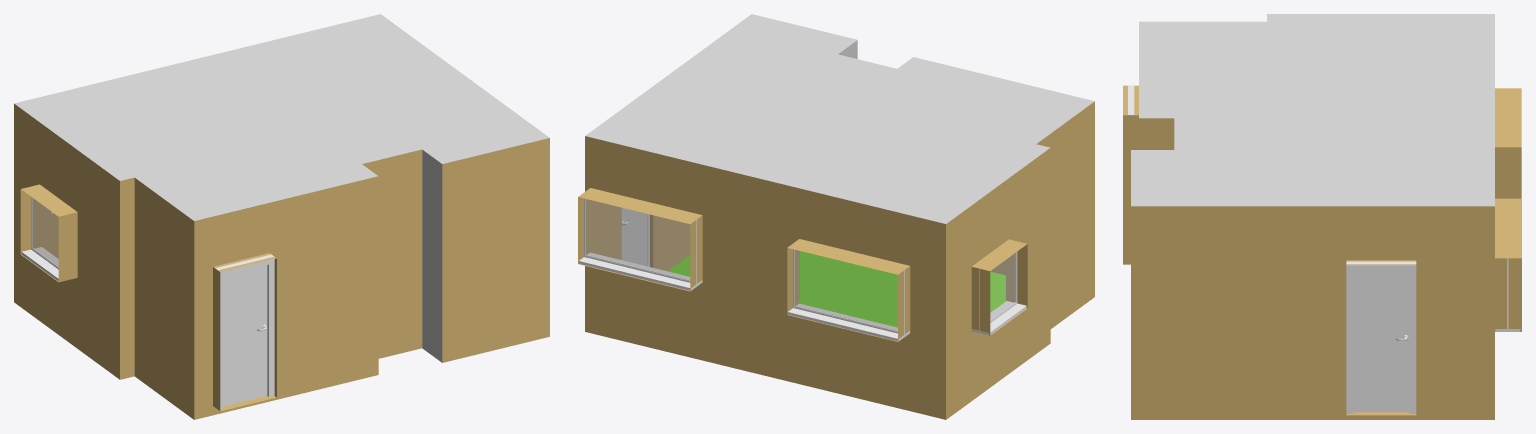
The model's file is Kitchen.glb.
The picture shows the model from 3 angles, left to right: view 1: azimuth 30°, elevation 25°; view 2: azimuth 150°, elevation 25°; view 3: azimuth 270°, elevation 25°; orthographic projection. The views are drawn at different scales.
Parts seen in each view (by area): view 1: Room_Kitchen, Kitchen_Door_South, Kitchen_Door_South_Frame, Kitchen_Window_West; view 2: Room_Kitchen, Kitchen_Window_NE, Kitchen_Window_NW, Kitchen_Window_West, Kitchen_Door_West; view 3: Room_Kitchen, Kitchen_Door_West, Kitchen_Door_West_Frame.
Boxes of the visible parts, x1=… form: Room_Kitchen: x1=14, y1=14, x2=549, y2=419; Kitchen_Door_South: x1=223, y1=265, x2=267, y2=406; Kitchen_Door_South_Frame: x1=215, y1=254, x2=274, y2=408; Kitchen_Window_West: x1=21, y1=197, x2=58, y2=281; Room_Kitchen: x1=578, y1=14, x2=1094, y2=419; Kitchen_Window_NE: x1=578, y1=198, x2=702, y2=290; Kitchen_Window_NW: x1=787, y1=249, x2=909, y2=341; Kitchen_Window_West: x1=971, y1=252, x2=1026, y2=335; Kitchen_Door_West: x1=621, y1=208, x2=647, y2=266; Room_Kitchen: x1=1123, y1=14, x2=1521, y2=419; Kitchen_Door_West: x1=1353, y1=271, x2=1409, y2=412; Kitchen_Door_West_Frame: x1=1346, y1=261, x2=1416, y2=413.
Bounding box in the file's own units: 6.25 × 3 × 5.08.
